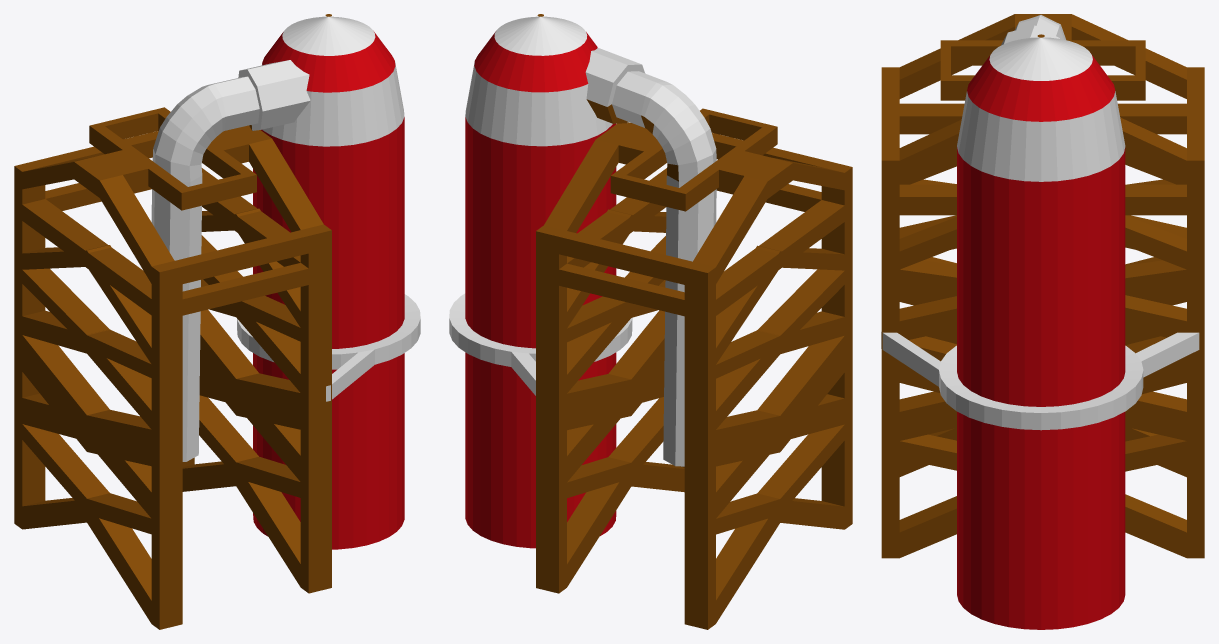
The model's file is FoodStation.fbx.
3 renders of one model, left to right at view 1: azimuth 30°, elevation 25°; view 2: azimuth 150°, elevation 25°; view 3: azimuth 270°, elevation 25°, orthographic. The views are drawn at different scales.
Parts seen in each view (by area): view 1: Cylinder; view 2: Cylinder; view 3: Cylinder.
Boxes of the visible parts, x1,y1,x2,y2 form: Cylinder: [14, 14, 420, 629]; Cylinder: [449, 14, 852, 629]; Cylinder: [881, 14, 1204, 629].
Bounding box in the file's own units: 255 × 382 × 200.
